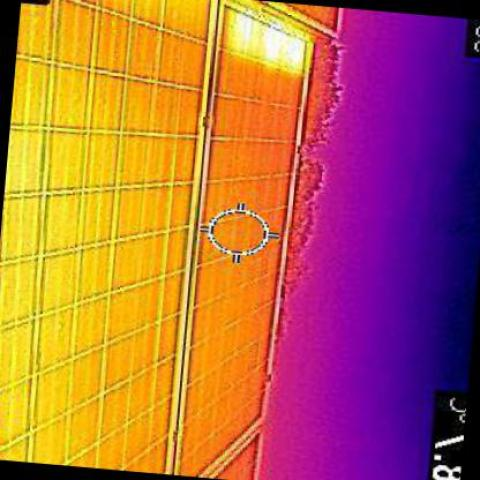fault: (236, 8, 305, 66)
